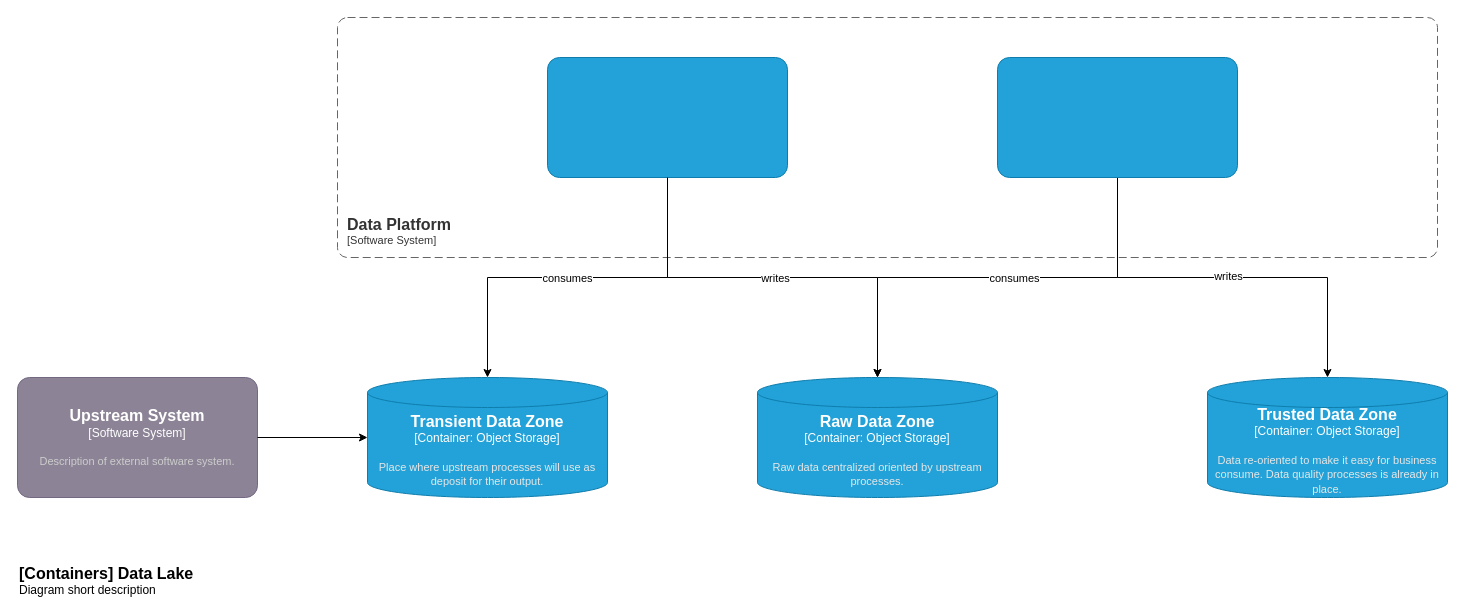
The diagram is 1465 pixels wide and 616 high, and some of its shapes have lost their labels. The box of each missing label's shape, as (x1, y1, x2, y2) in pixels:
admission_job [Container: Spark] Description of container role/responsibility.: (546, 56, 788, 178)
refining_job [Container: Spark] Description of container role/responsibility.: (996, 56, 1238, 178)
